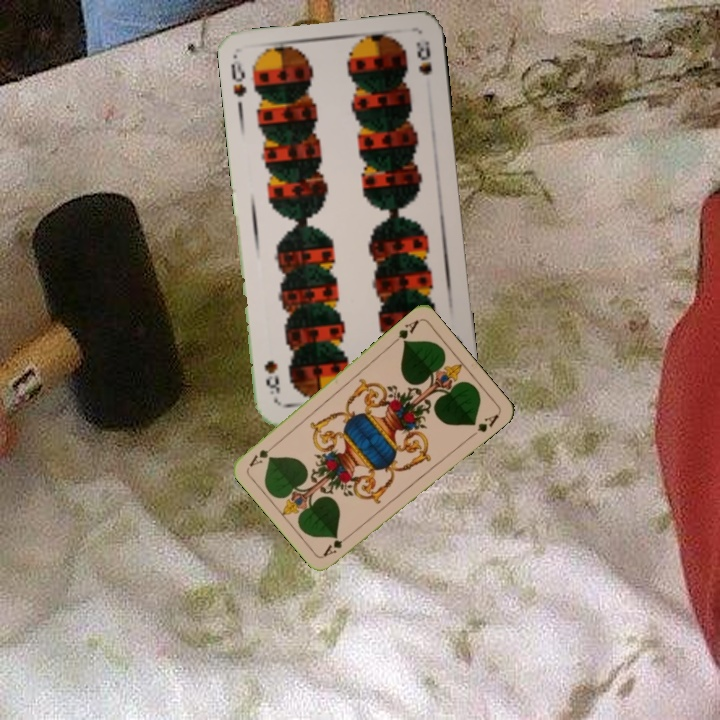GA: (388, 316, 422, 347), (319, 529, 354, 559)
S8: (226, 55, 249, 100)
